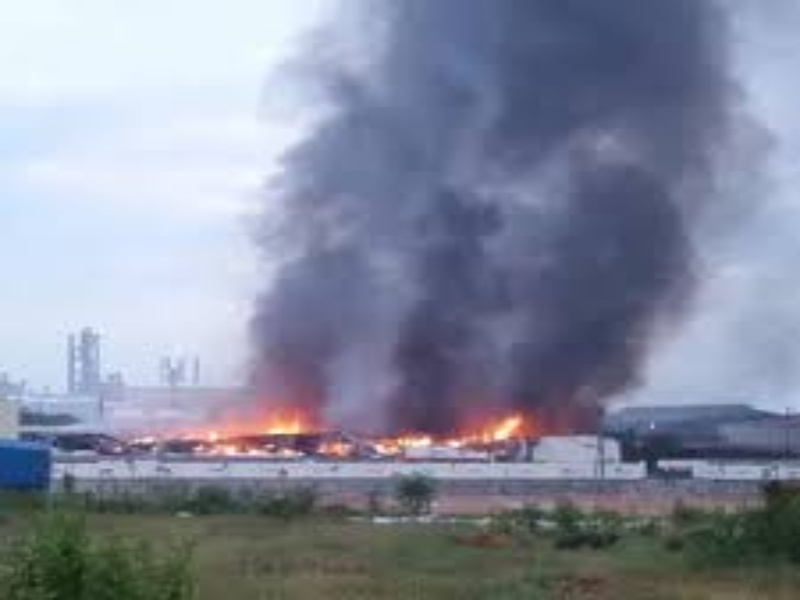smoke: (263, 1, 637, 423)
